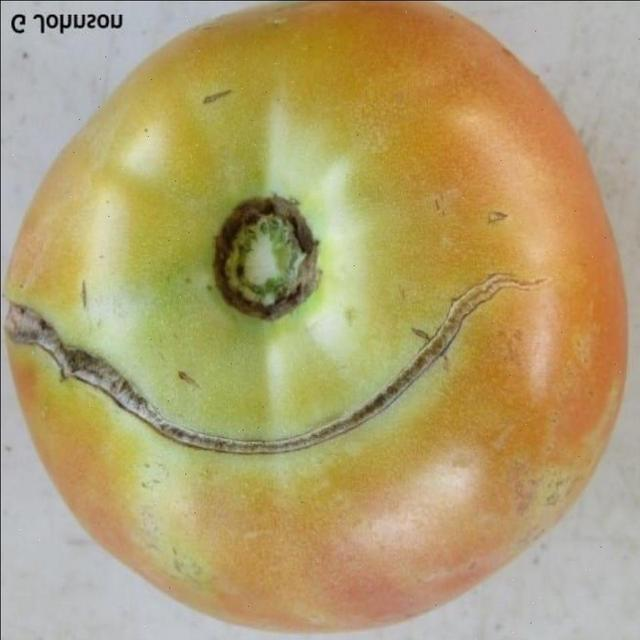Cracking Fruit: (0, 170, 358, 308)
